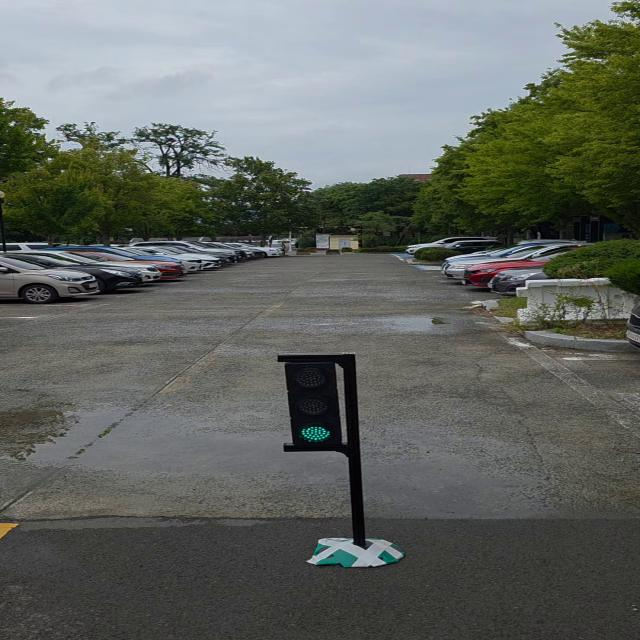green: (289, 355, 355, 448)
